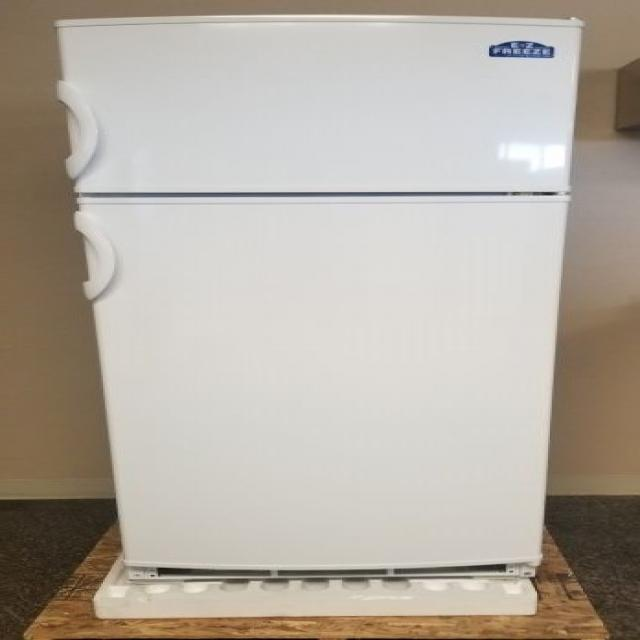refrigerator: (59, 17, 587, 574)
